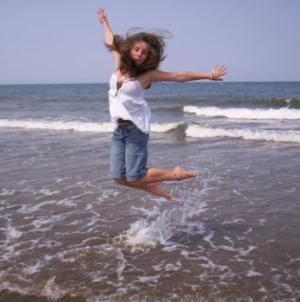person: (98, 8, 228, 203)
